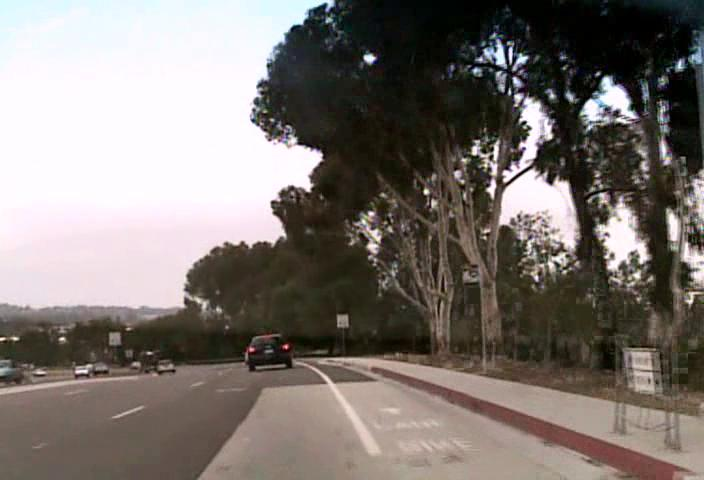speedLimitUrdbl: (336, 314, 348, 328)
